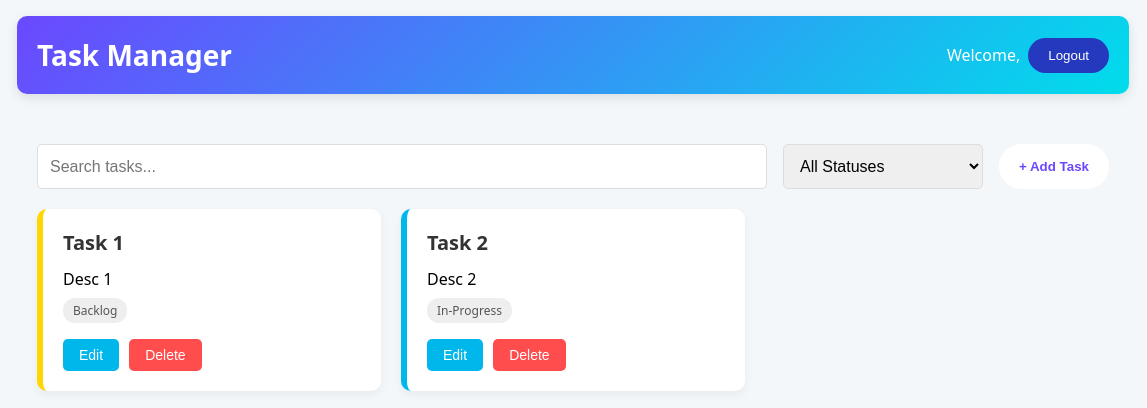
Scenario: App Component › logs out and clears tasks
Expected: the heading "Task 1" is shown, [63, 229, 124, 256]
Click the button "Logout": (1069, 55) [1028, 38, 1109, 72]
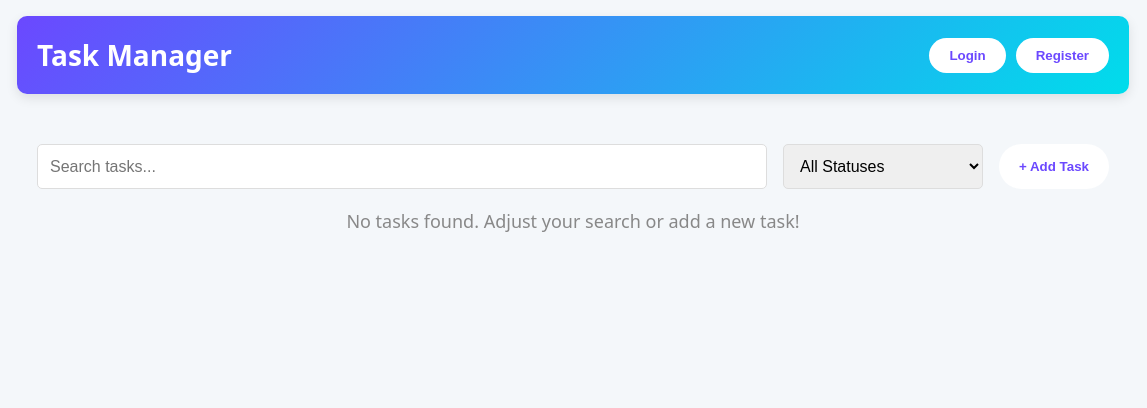
Expected: the heading "Task 1" is gone
